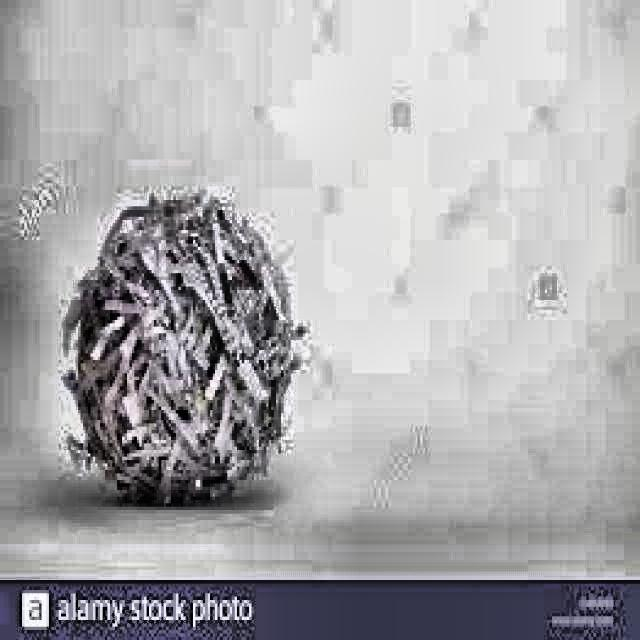Paper: (59, 190, 303, 503)
